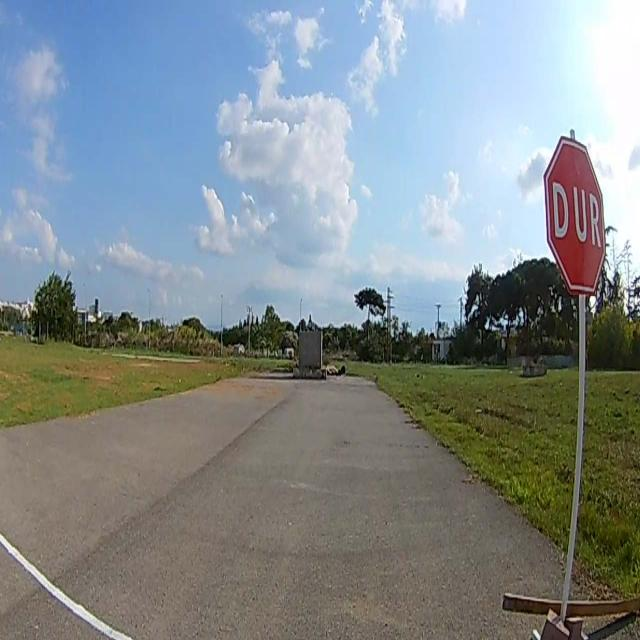dur: (544, 135, 606, 295)
